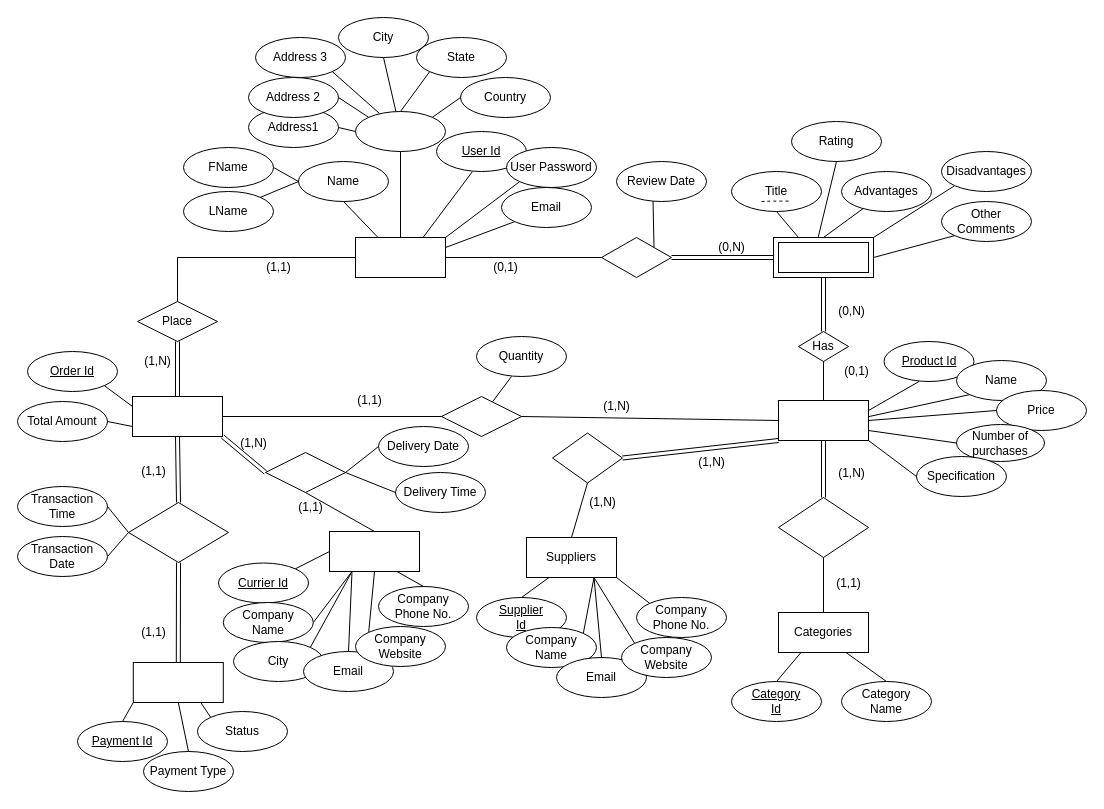
The diagram is 1104 pixels wide and 809 high, and some of its shapes have lost their labels. Here are the shapes that lost their labels. From the top down, the centre of each, then its label:
At (400,131): "Address".
At (400,257): "Customers".
At (636,257): "Writes".
At (823,257): "Reviews".
At (177,416): "Orders".
At (481,416): "Contain".
At (823,420): "Products".
At (305,472): "Delivery".
At (587,457): "Supply".
At (178,532): "Transactions".
At (823,527): "Category Type".
At (374,551): "Curriers".
At (177,682): "Payments".
